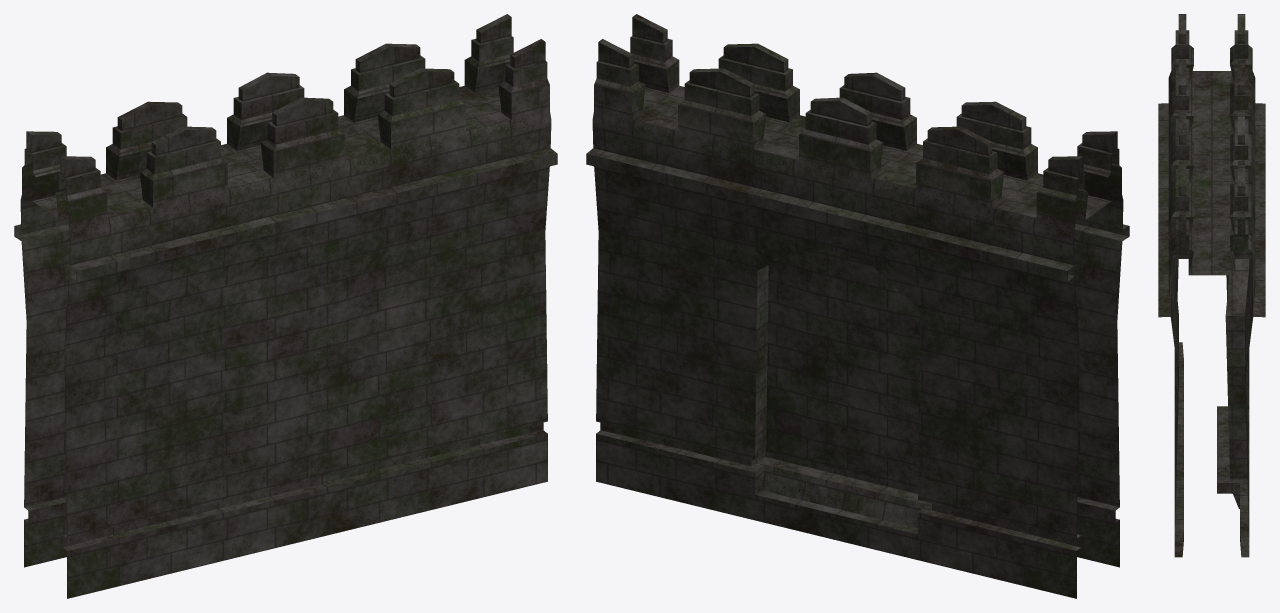
The model's file is CastleWall.fbx.
3 views of the same model, side by side, from view 1: azimuth 30°, elevation 25°; view 2: azimuth 150°, elevation 25°; view 3: azimuth 270°, elevation 25° (orthographic). The views are drawn at different scales.
Visible parts, largest first — view 1: CastleWall; view 2: CastleWall; view 3: CastleWall.
Boxes of the visible parts, x1,y1,x2,y2 form: CastleWall: [14, 14, 557, 598]; CastleWall: [586, 14, 1129, 598]; CastleWall: [1158, 14, 1265, 557].
Size of the model in its own units: 1264 by 1099 by 281.
